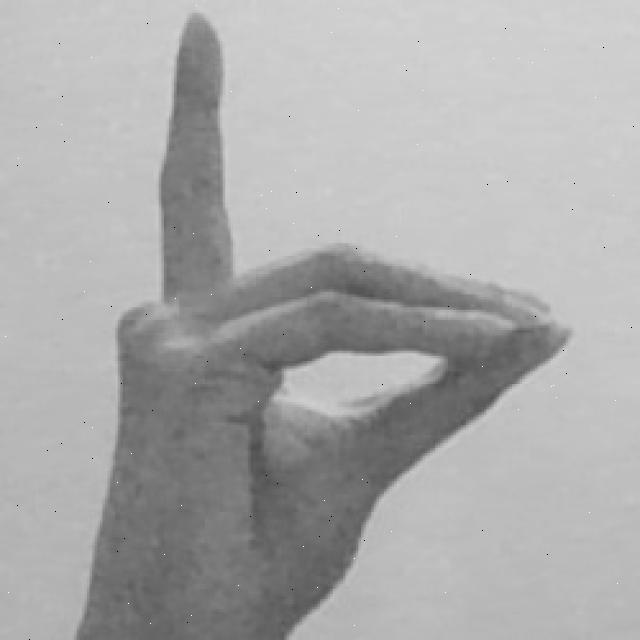D: (79, 13, 578, 640)
